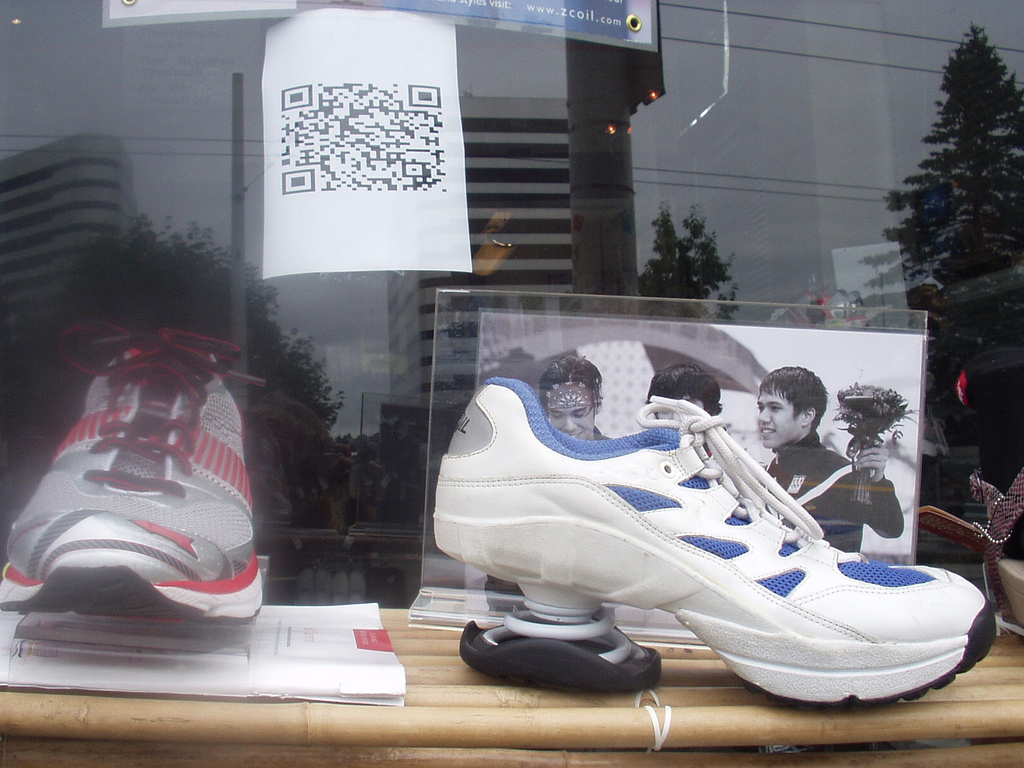QR-CODE: (282, 83, 445, 195)
